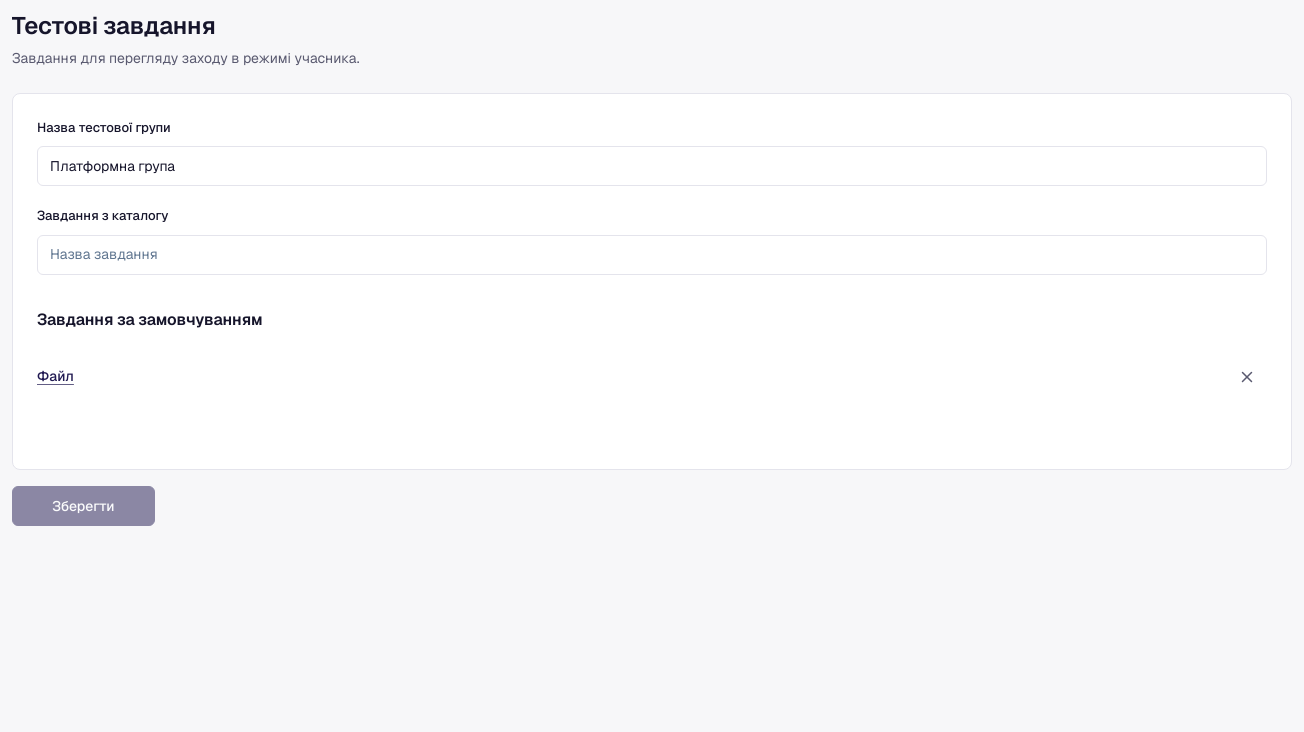
Test: preserves a local draft if saving fails
Click the button named "Прибрати «Файл»".
click(1247, 377)  # box [1227,357,1267,397]
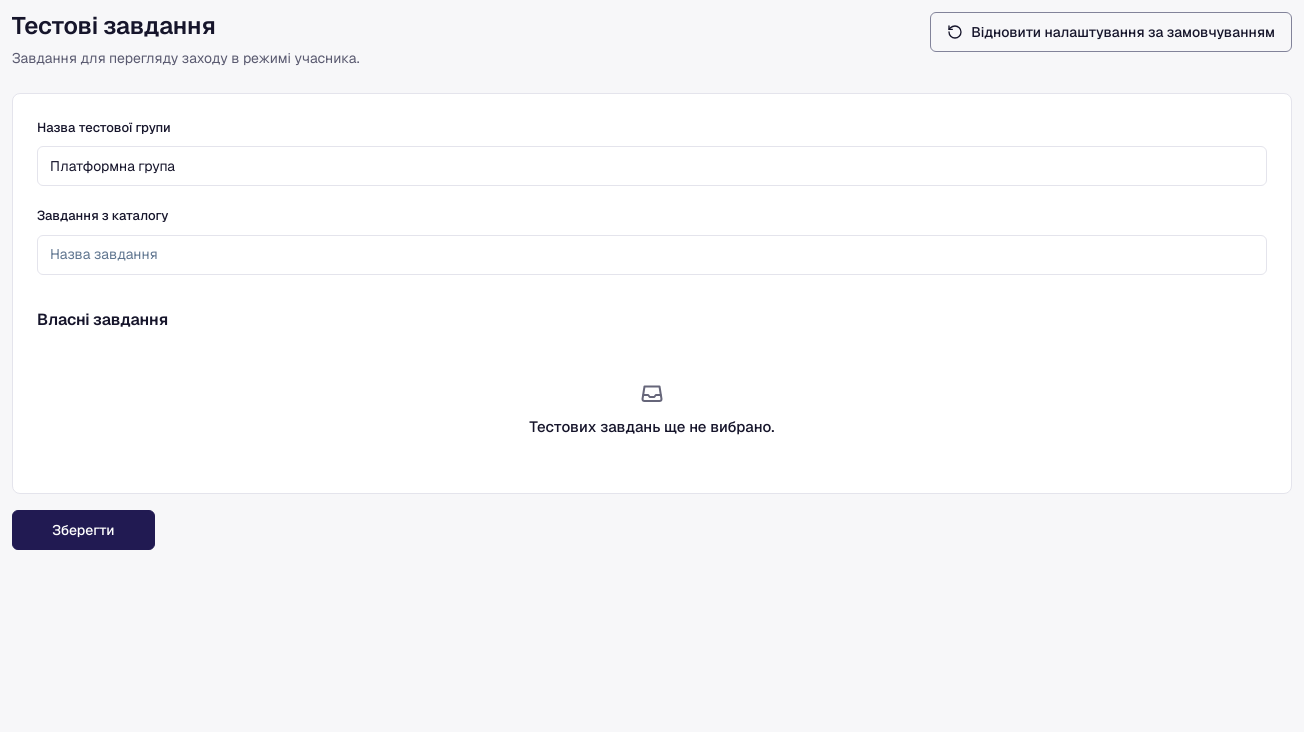
Click the button "Зберегти".
click(83, 530)  # box [12,510,155,550]
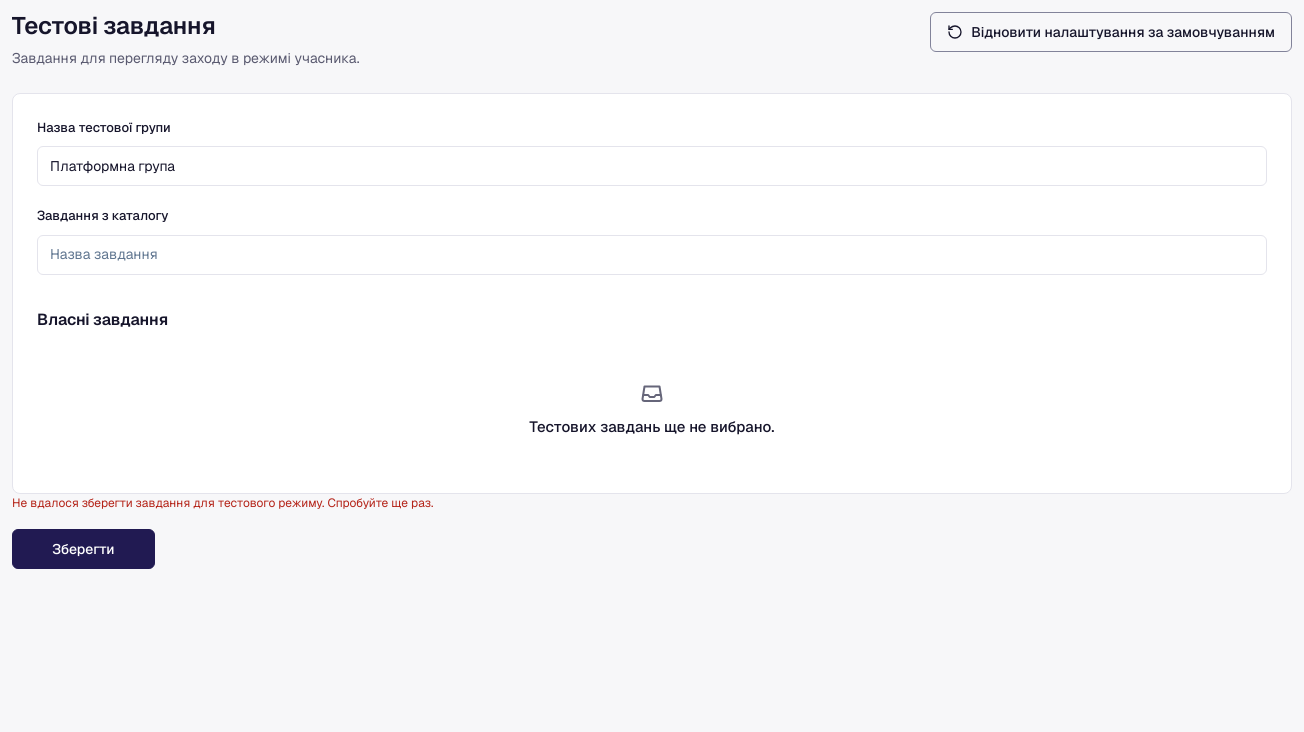
Expected: the button "Файл" is not shown
Result: the button "Зберегти" is enabled at [12,529,155,569]
Result: the message "Не вдалося зберегти завдання для тестового режиму. Спробуйте ще раз." is shown at [12,495,433,511]
